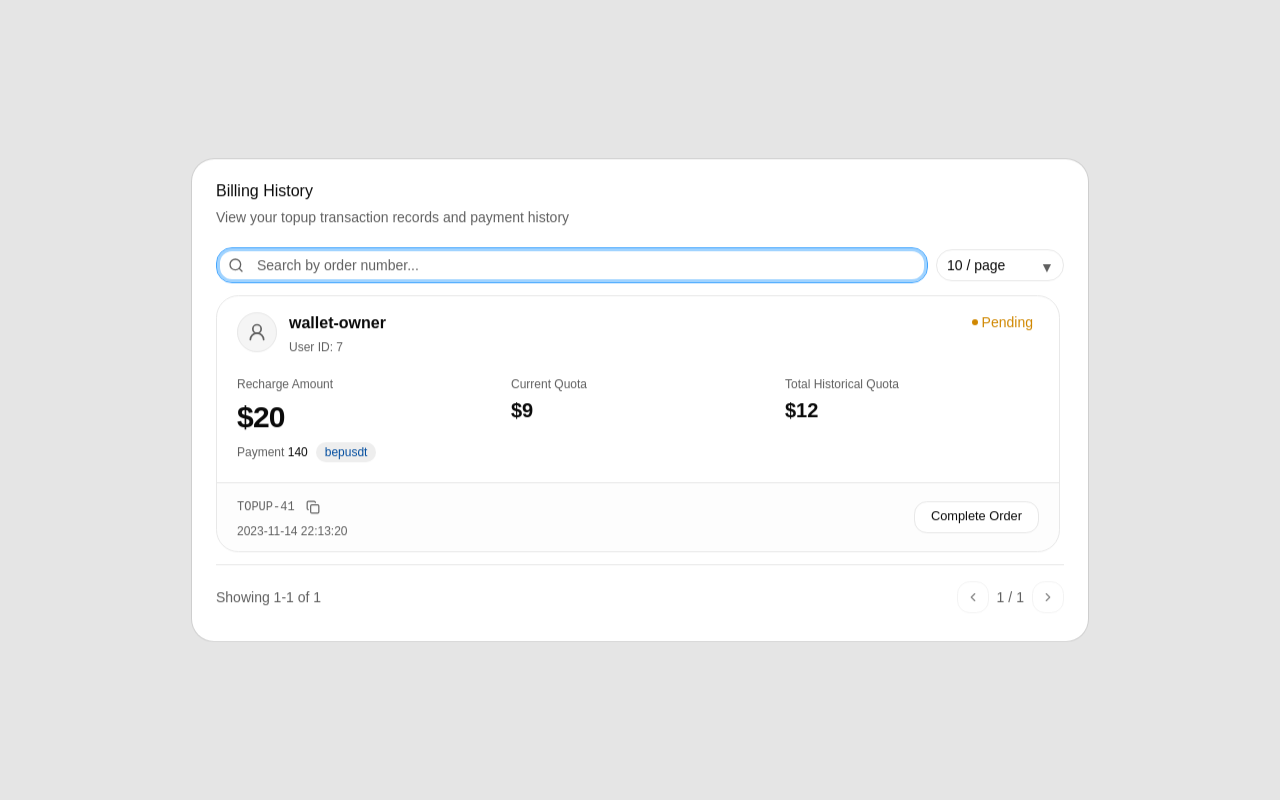
Scenario: Billing history user information › retains the pending order and account balances when completion is rejected and shows the error
This screenshot has width=1280, height=800.
expect the text "TOPUP-41" is shown: met, box left=237, top=499, right=295, bottom=515
Step 1. Click the button "Complete Order" → (976,517), box left=914, top=501, right=1039, bottom=533
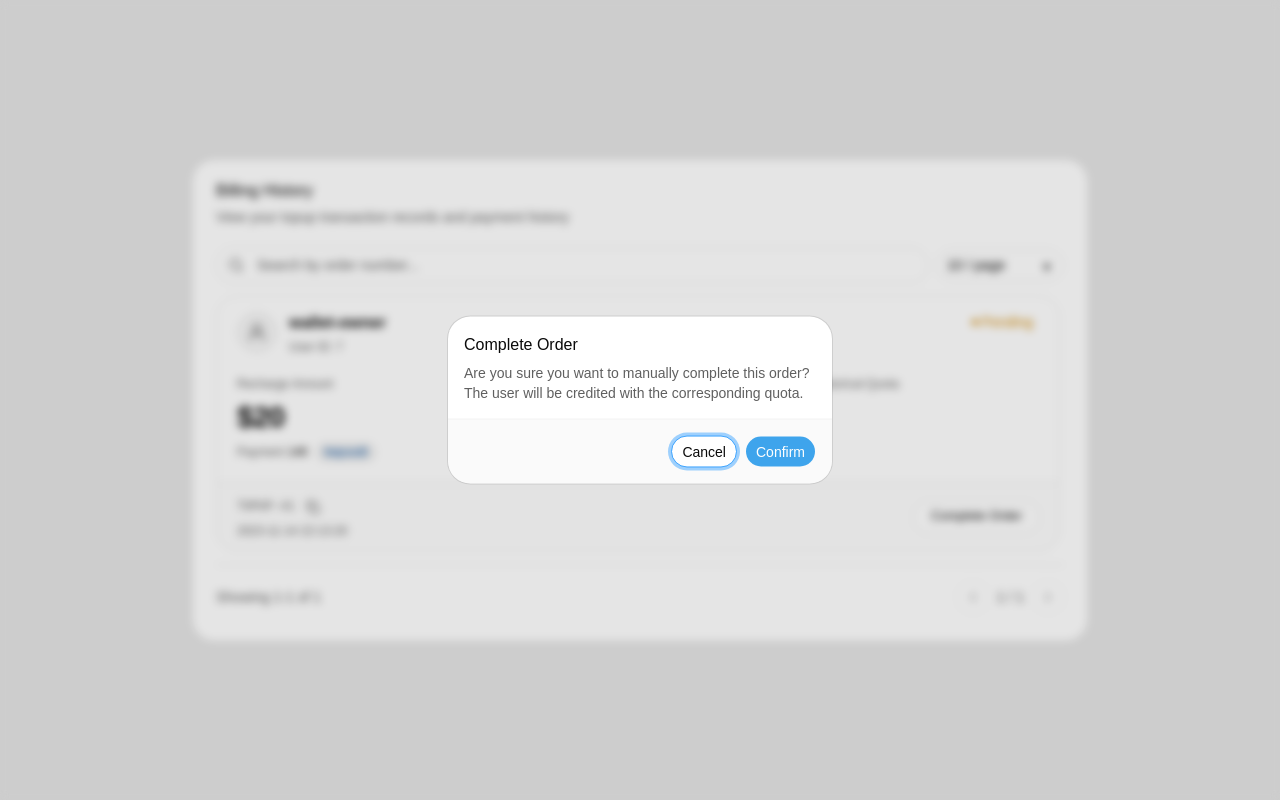
Step 2. Click the button "Confirm" → (780,452), box left=745, top=436, right=816, bottom=468
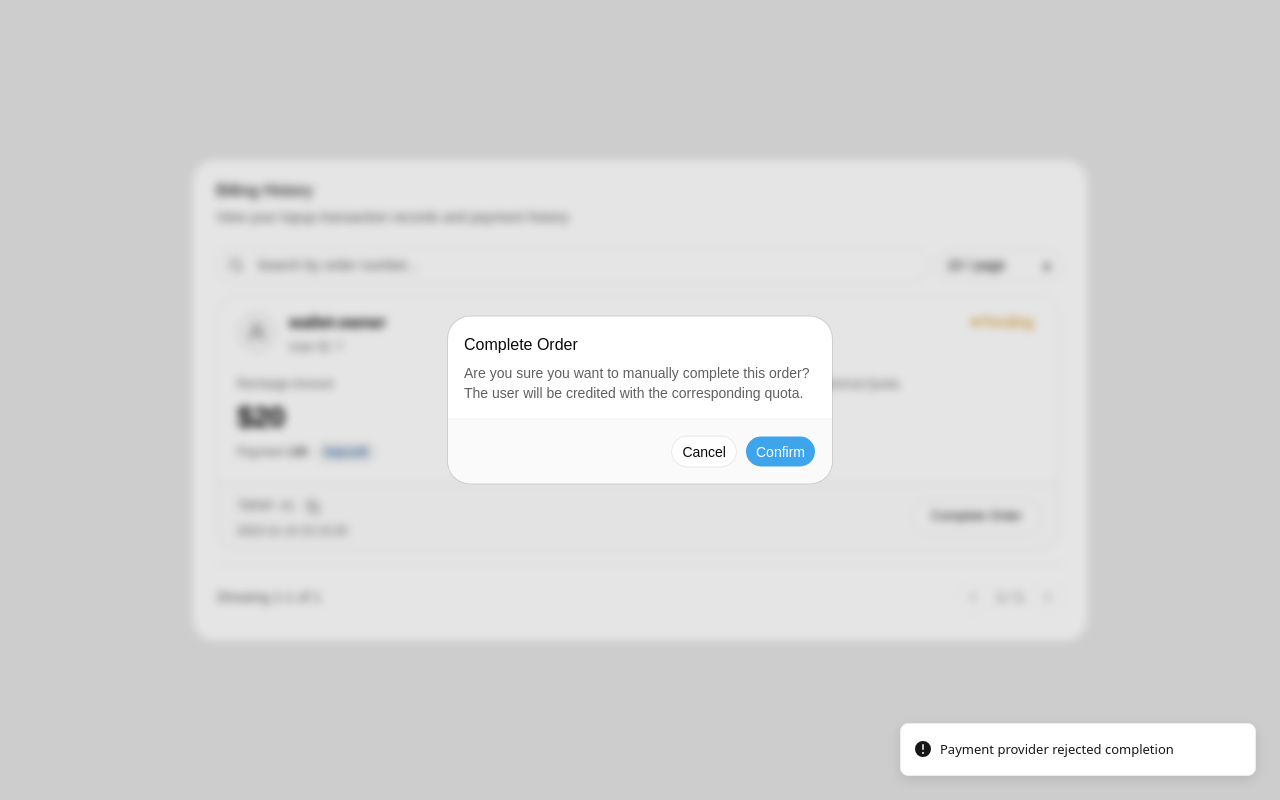
expect the text "wallet-owner" is shown: met, box left=289, top=314, right=386, bottom=331
expect the button "Confirm" is enabled: met, box left=745, top=436, right=816, bottom=468
expect the text "Payment provider rejected completion" is shown: met, box left=940, top=740, right=1174, bottom=759
